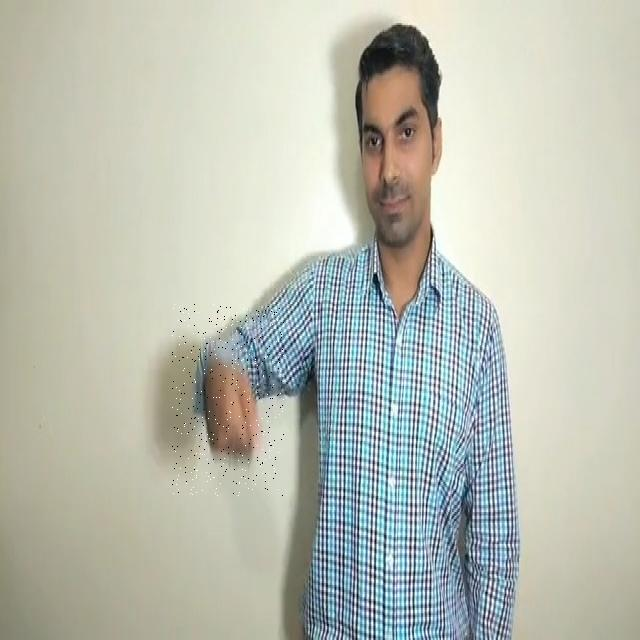bag: (172, 304, 284, 496)
